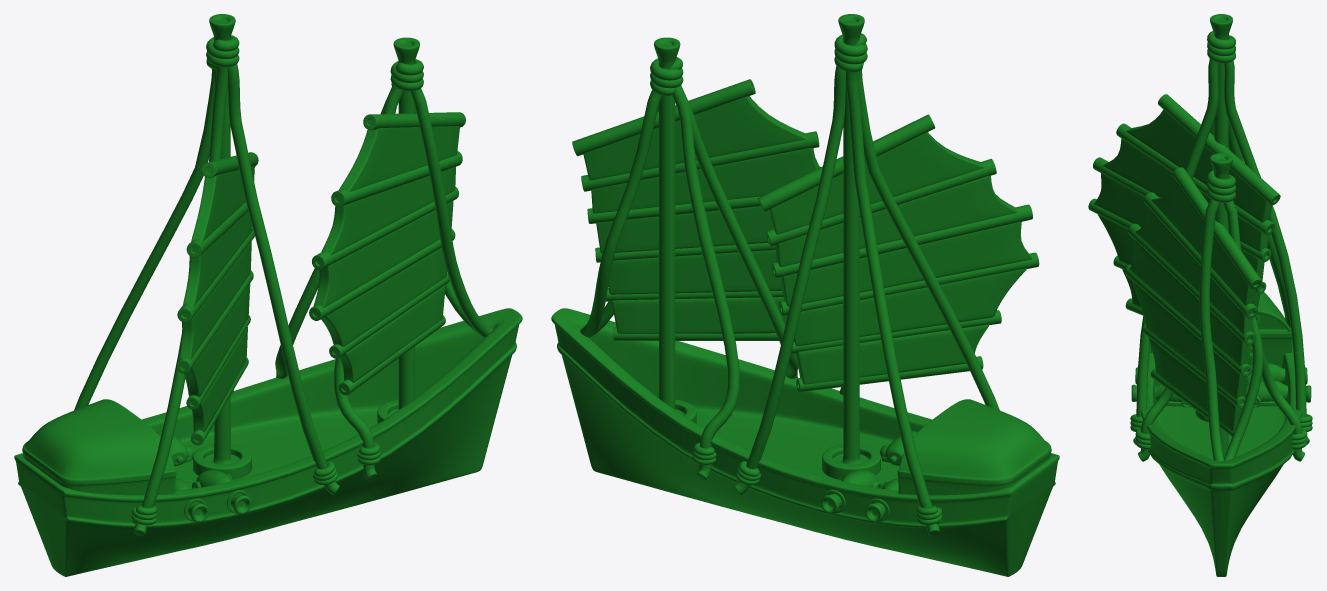
Rendered from Ghost Ship.fbx.
The picture shows the model from 3 angles, left to right: view 1: azimuth 30°, elevation 25°; view 2: azimuth 150°, elevation 25°; view 3: azimuth 270°, elevation 25°; orthographic projection. The views are drawn at different scales.
Visible parts, largest first — view 1: 19889_Junk_(ship)_V1_NEW; view 2: 19889_Junk_(ship)_V1_NEW; view 3: 19889_Junk_(ship)_V1_NEW.
Part boxes in pixels (x1,y1,x2,y2): 19889_Junk_(ship)_V1_NEW: (14,14,522,576); 19889_Junk_(ship)_V1_NEW: (551,14,1059,576); 19889_Junk_(ship)_V1_NEW: (1088,14,1312,576).
Bounding box in the file's own units: 8994 × 9218 × 4153.
